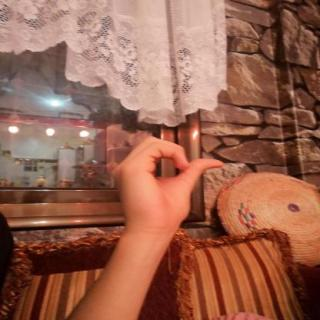WAW: (100, 130, 234, 238)
